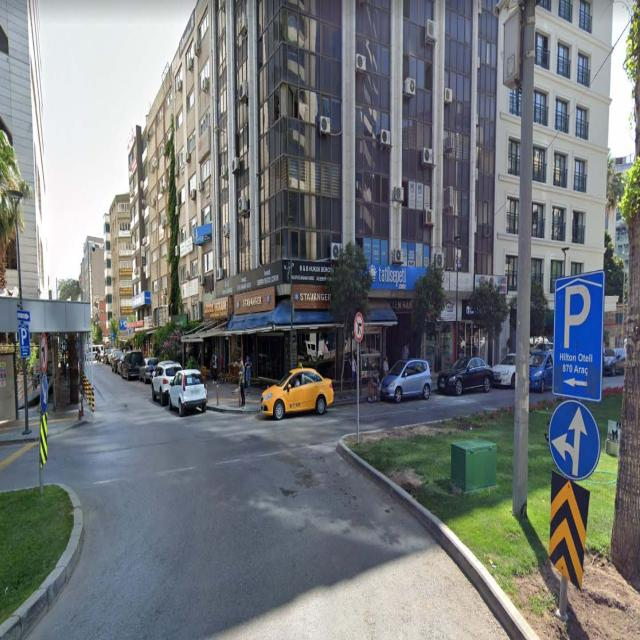ilerisol: (551, 400, 601, 480)
park: (555, 278, 602, 399), (20, 326, 30, 356)
sagadonulmez: (354, 313, 364, 341)
soladonulmez: (41, 333, 48, 372)
